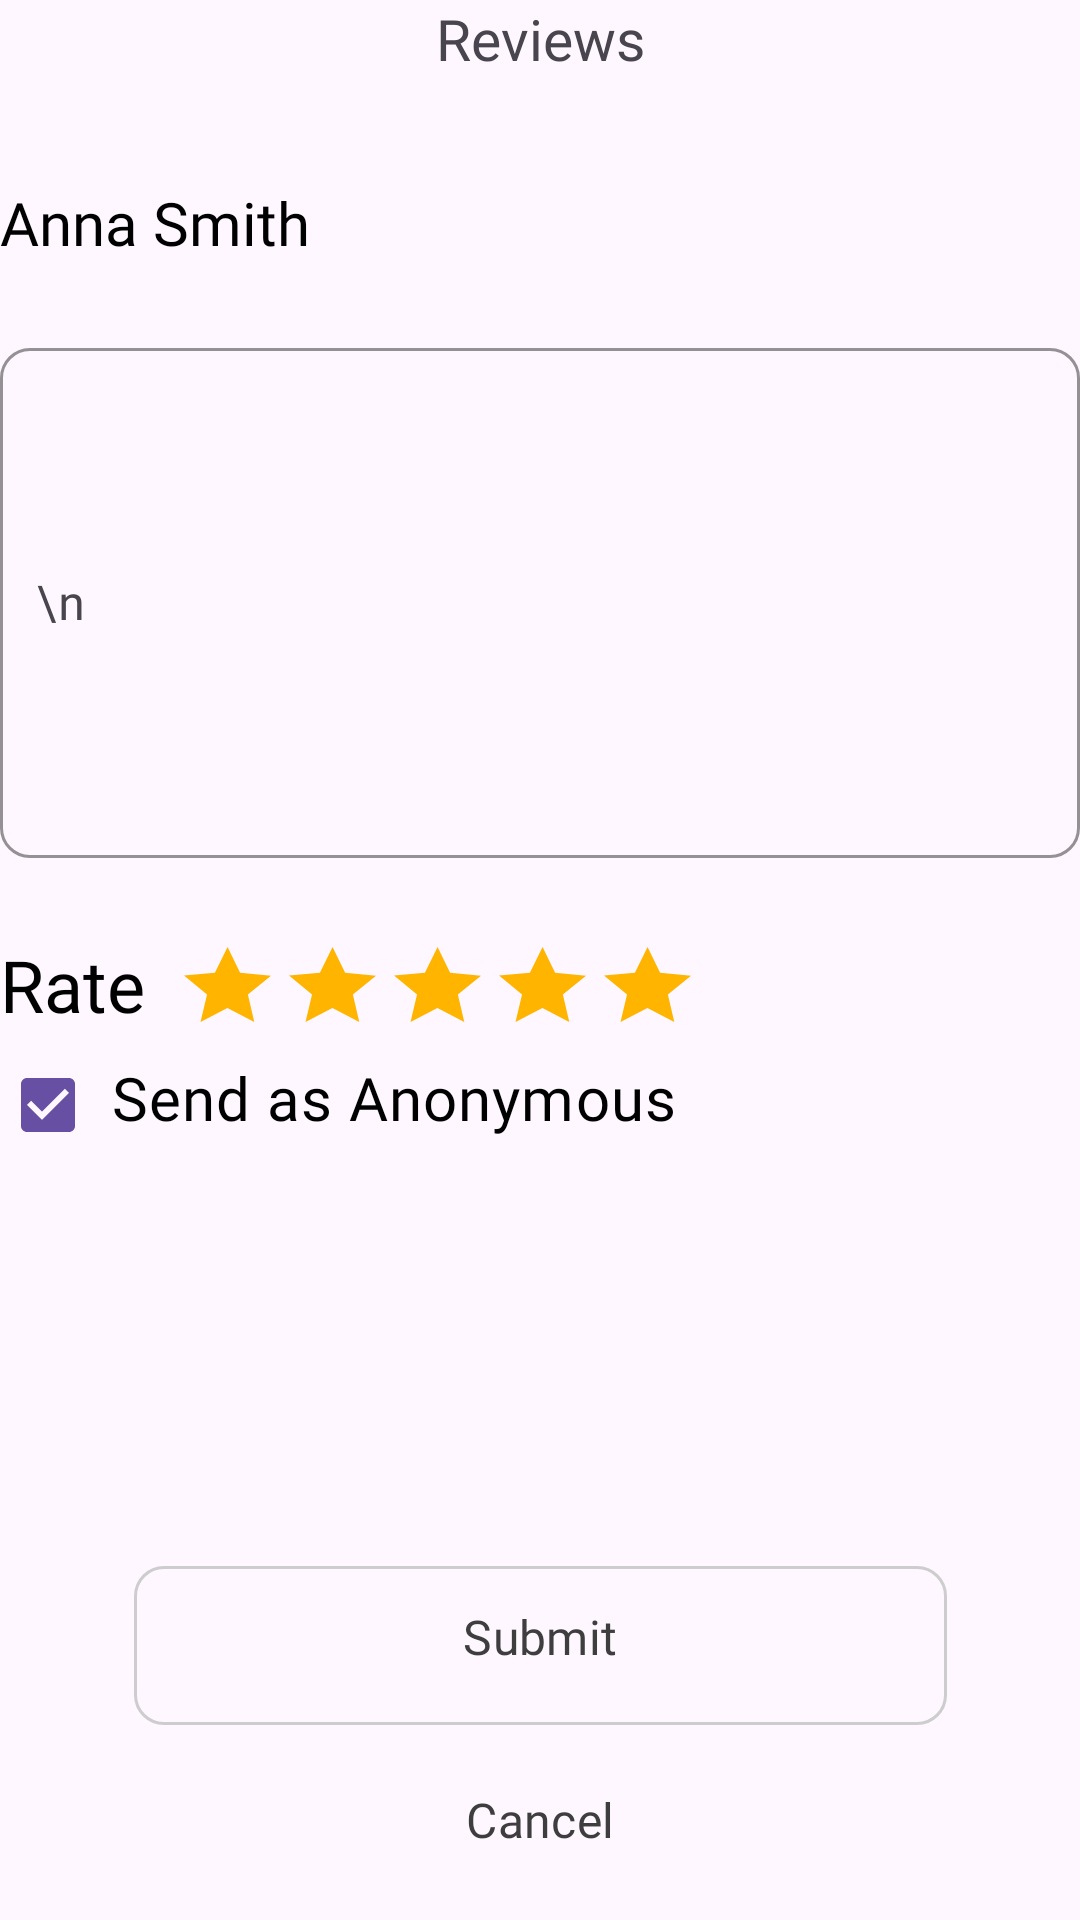

Named icons in this screenshot (1080w x 1920h) and their centers, [x,y]:
star: [227,984], [332,984], [437,984], [542,984], [647,984]
